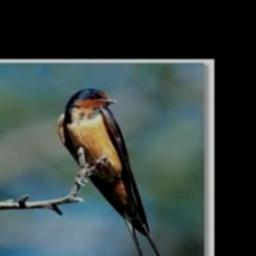Swallow: (57, 88, 165, 256)
